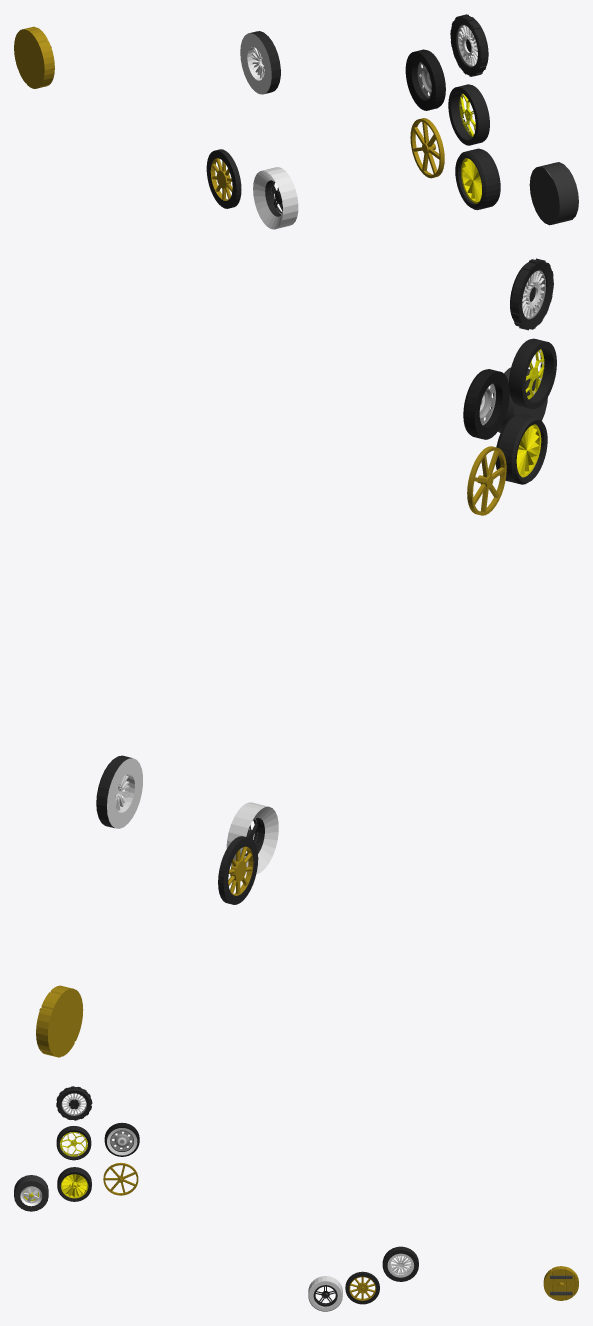
File: MeshWheel.fbx
3 renders of one model, top to bottom at view 1: azimuth 30°, elevation 25°; view 2: azimuth 150°, elevation 25°; view 3: azimuth 270°, elevation 25°, orthographic. The views are drawn at different scales.
Visible parts, largest first — view 1: FrontLeftWheel.001, КОЛЕСО 2, КОЛЕСО 6, КОЛЕСО 3, КОЛЕСО 7, колесо 9, колесо 8, колесо 10, КОЛЕСО 1, колесо 2; view 2: КОЛЕСО 6, КОЛЕСО 3, КОЛЕСО 7, колесо 8, колесо 9, колесо 10, КОЛЕСО 2, КОЛЕСО 1, колесо 2; view 3: FrontLeftWheel.001, КОЛЕСО 3, КОЛЕСО 7, КОЛЕСО 6, колесо 8, КОЛЕСО 2, колесо 10, КОЛЕСО 1, колесо 9, колесо 2.
Part boxes in pixels (<box>): FrontLeftWheel.001: <box>529,162,578,225</box>; КОЛЕСО 2: <box>253,167,298,229</box>; КОЛЕСО 6: <box>455,148,500,210</box>; КОЛЕСО 3: <box>240,31,280,94</box>; КОЛЕСО 7: <box>14,26,54,88</box>; колесо 9: <box>448,84,489,145</box>; колесо 8: <box>405,49,445,110</box>; колесо 10: <box>450,14,488,76</box>; КОЛЕСО 1: <box>206,149,241,208</box>; колесо 2: <box>410,118,444,178</box>; КОЛЕСО 6: <box>495,413,547,484</box>; КОЛЕСО 3: <box>96,755,142,828</box>; КОЛЕСО 7: <box>36,985,83,1057</box>; колесо 8: <box>463,369,509,439</box>; колесо 9: <box>509,338,556,409</box>; колесо 10: <box>510,258,553,330</box>; КОЛЕСО 2: <box>226,802,278,874</box>; КОЛЕСО 1: <box>218,836,258,904</box>; колесо 2: <box>467,446,506,515</box>; FrontLeftWheel.001: <box>14,1175,48,1211</box>; КОЛЕСО 3: <box>382,1246,418,1281</box>; КОЛЕСО 7: <box>543,1266,578,1300</box>; КОЛЕСО 6: <box>57,1167,91,1201</box>; колесо 8: <box>104,1122,139,1156</box>; КОЛЕСО 2: <box>308,1276,342,1311</box>; колесо 10: <box>56,1086,92,1120</box>; КОЛЕСО 1: <box>345,1271,379,1304</box>; колесо 9: <box>56,1126,91,1160</box>; колесо 2: <box>103,1162,138,1195</box>.
Bounding box in the file's own units: 133 × 491 × 1164.
